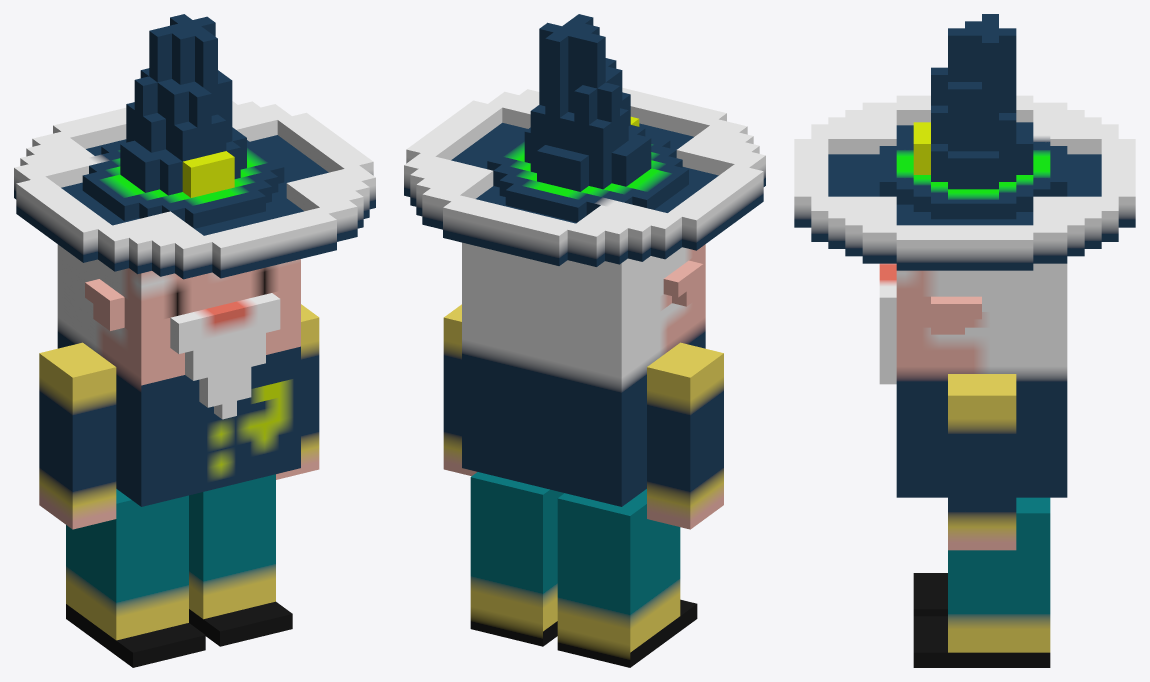
File: Trey.fbx
3 renders of one model, left to right at view 1: azimuth 30°, elevation 25°; view 2: azimuth 150°, elevation 25°; view 3: azimuth 270°, elevation 25°, orthographic.
Visible parts, largest first — view 1: Main, RightFoot, LeftFoot, RightHand, LeftHand; view 2: Main, RightFoot, LeftFoot, RightHand, LeftHand; view 3: Main, LeftFoot, LeftHand, RightFoot.
Part boxes in pixels (bbox=[...]): Main: bbox=[14, 14, 375, 506]; RightFoot: bbox=[66, 489, 205, 667]; LeftFoot: bbox=[189, 474, 292, 646]; RightHand: bbox=[39, 342, 116, 529]; LeftHand: bbox=[276, 304, 319, 479]; Main: bbox=[404, 14, 765, 506]; RightFoot: bbox=[557, 489, 697, 667]; LeftFoot: bbox=[470, 472, 564, 646]; RightHand: bbox=[647, 342, 723, 529]; LeftHand: bbox=[443, 304, 476, 476]; Main: bbox=[794, 14, 1135, 497]; LeftFoot: bbox=[913, 497, 1050, 667]; LeftHand: bbox=[948, 374, 1016, 550]; RightFoot: bbox=[913, 573, 947, 616].
Bounding box in the file's own units: 20 × 39 × 20.
Materials: 1 (1 with a texture image).
